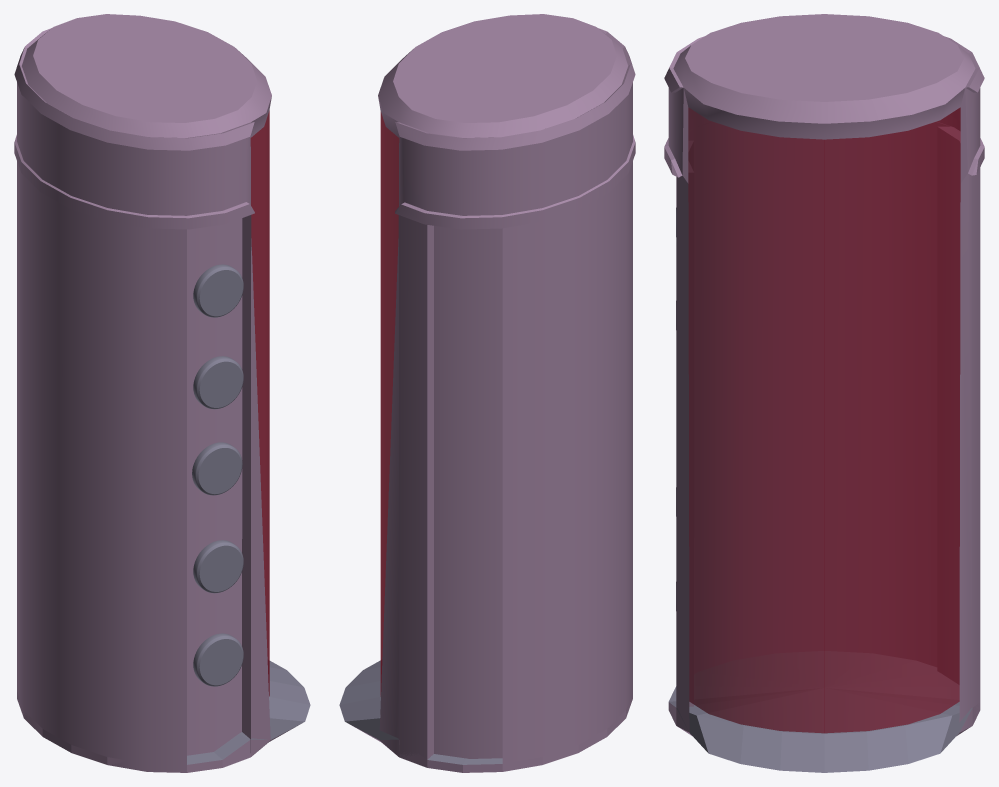
File: suit container.fbx
The picture shows the model from 3 angles, left to right: view 1: azimuth 30°, elevation 25°; view 2: azimuth 150°, elevation 25°; view 3: azimuth 270°, elevation 25°; orthographic projection.
Parts seen in each view (by area): view 1: pCylinder1, bevelPolygon1, bevelPolygon2, bevelPolygon4, bevelPolygon3, bevelPolygon5; view 2: pCylinder1; view 3: pCylinder1.
Boxes of the visible parts, left/top/right/bottom form: pCylinder1: left=14, top=14, right=310, bottom=772; bevelPolygon1: left=192, top=442, right=242, bottom=495; bevelPolygon2: left=193, top=540, right=243, bottom=593; bevelPolygon4: left=193, top=356, right=243, bottom=409; bevelPolygon3: left=193, top=633, right=243, bottom=686; bevelPolygon5: left=193, top=264, right=243, bottom=317; pCylinder1: left=339, top=14, right=635, bottom=772; pCylinder1: left=664, top=14, right=984, bottom=772.
Size of the model in its own units: 2.65 by 6.59 by 2.94.
